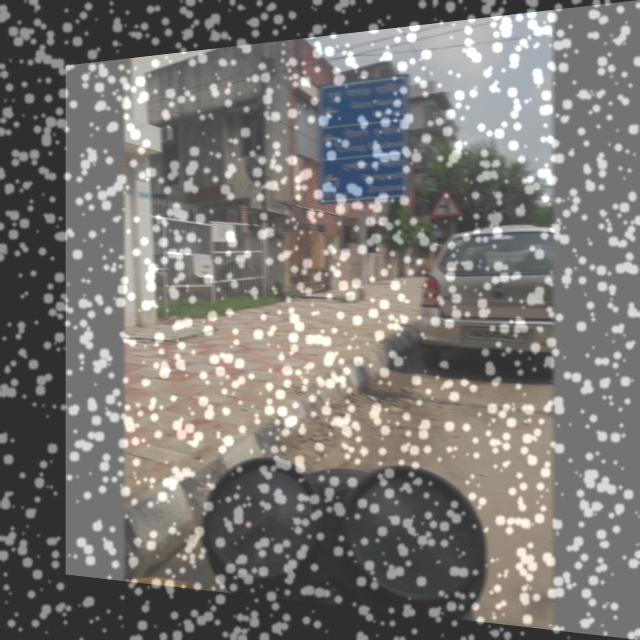Side_Road_Left: (426, 181, 464, 221)
